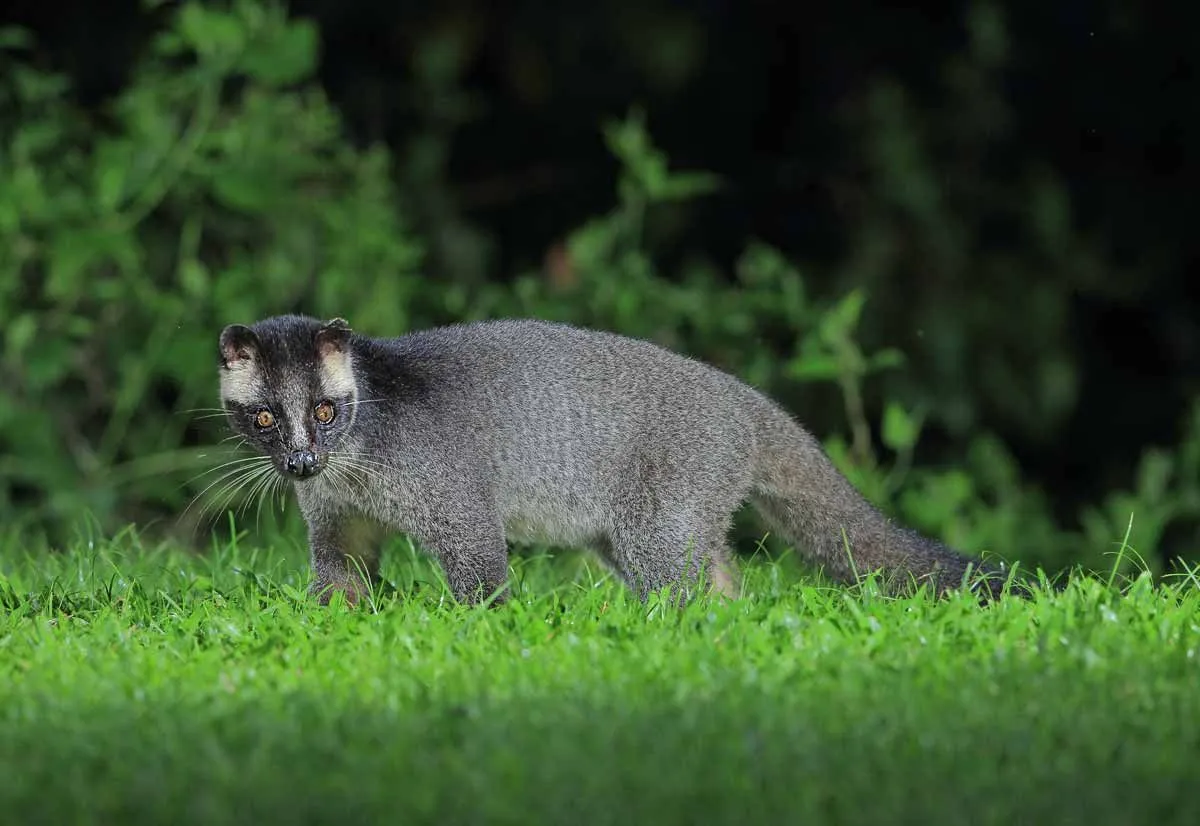Civet: (191, 290, 983, 624)
